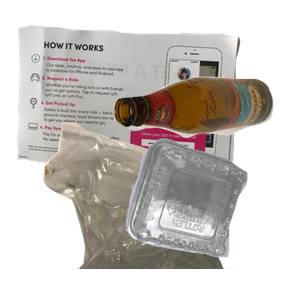glass: (111, 74, 300, 204)
paper: (14, 22, 247, 191)
plastic: (123, 136, 300, 300)
trash: (41, 120, 276, 300)
